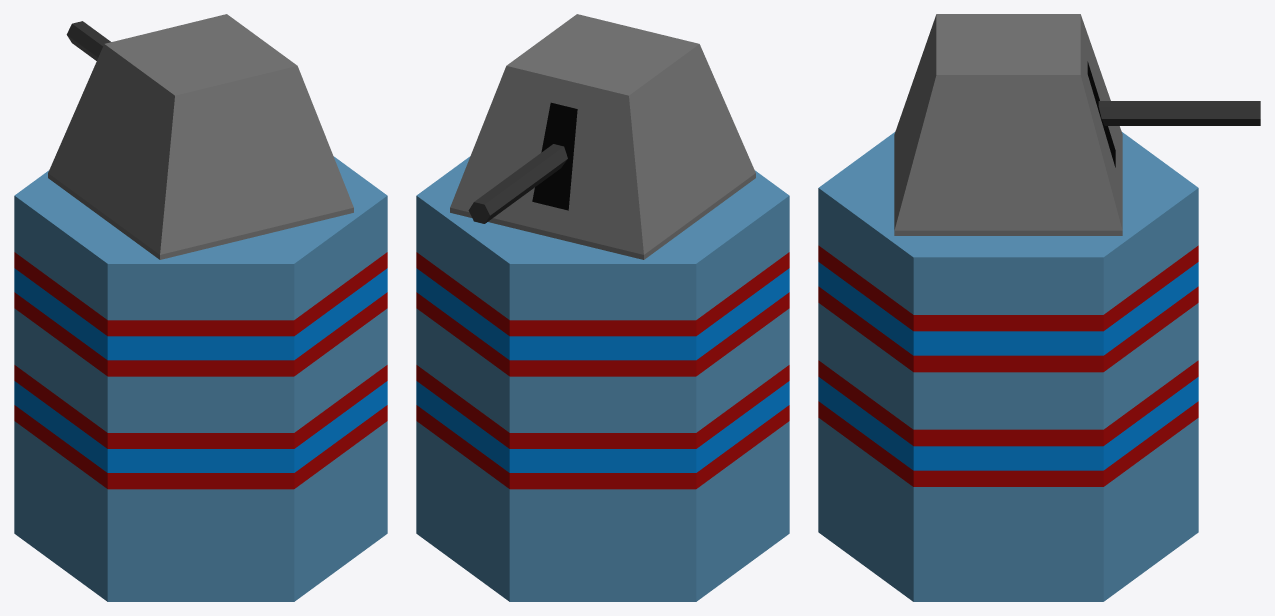
File: lasertowerv1.glb
3 views of the same model, side by side, from view 1: azimuth 30°, elevation 25°; view 2: azimuth 150°, elevation 25°; view 3: azimuth 270°, elevation 25° (orthographic).
Visible parts, largest first — view 1: Cylinder.001, Turret, Barrel; view 2: Cylinder.001, Turret, Barrel; view 3: Cylinder.001, Turret, Barrel.
Part boxes in pixels (bbox=[...]): Cylinder.001: bbox=[14, 156, 387, 601]; Turret: bbox=[48, 14, 353, 259]; Barrel: bbox=[66, 21, 110, 60]; Cylinder.001: bbox=[416, 156, 789, 601]; Turret: bbox=[450, 14, 755, 259]; Barrel: bbox=[468, 144, 567, 223]; Cylinder.001: bbox=[818, 132, 1198, 601]; Turret: bbox=[894, 14, 1122, 235]; Barrel: bbox=[1098, 101, 1260, 125].
Bounding box in the file's own units: 1.3 × 2.13 × 1.75.
